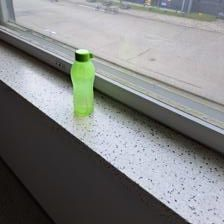bottle: (67, 45, 99, 115)
